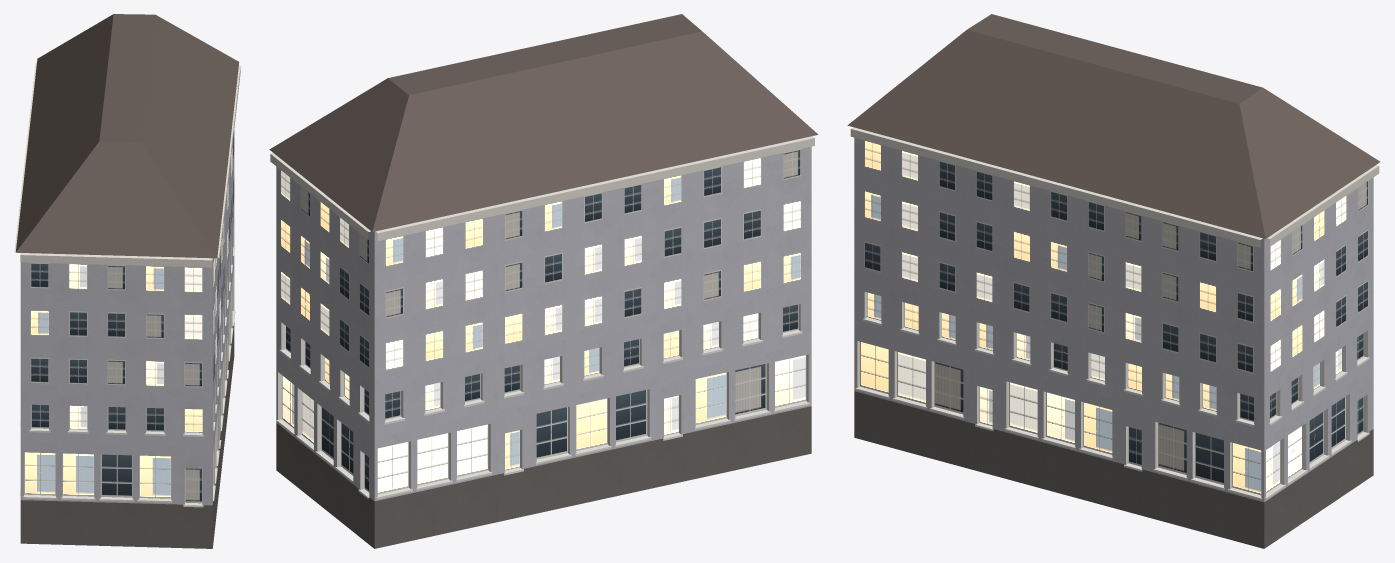
The model's file is z3c_hp_lilac.glb.
3 views of the same model, side by side, from view 1: azimuth 30°, elevation 25°; view 2: azimuth 150°, elevation 25°; view 3: azimuth 270°, elevation 25° (orthographic). The views are drawn at different scales.
Parts seen in each view (by area): view 1: z3c_hp_lilac; view 2: z3c_hp_lilac; view 3: z3c_hp_lilac.
Part boxes in pixels (x1,y1,x2,y2): z3c_hp_lilac: [14, 14, 240, 548]; z3c_hp_lilac: [269, 14, 818, 548]; z3c_hp_lilac: [847, 14, 1380, 548].
Bounding box in the file's own units: 26.21 × 25.68 × 31.19.
3 materials, 3 textured.
